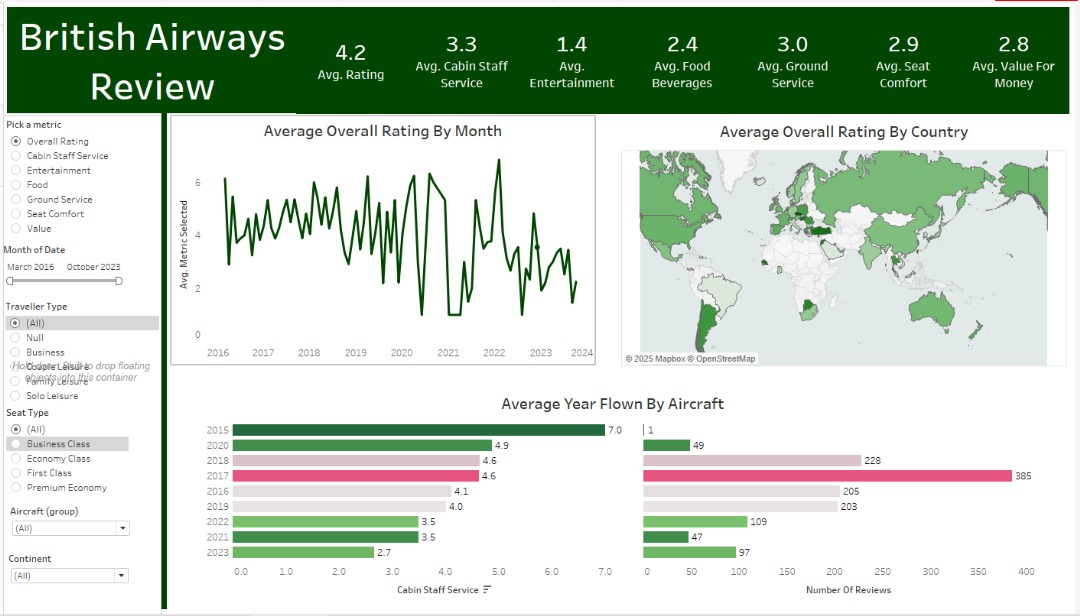

This screenshot's page, from the dashboard's own definition file:
{"tool":"tableau","page":{"name":"Dashboard 1","canvas":[1400,800],"ordinal":0},"visuals":[{"type":"text","box":[4,6,380,139]},{"type":"worksheet","title":"Summary","mark":"Automatic","box":[382,6,1011,140]},{"type":"blank","box":[206,145,7,649]},{"type":"worksheet","title":"Month","mark":"Automatic","rows":["Calculation_100768092632428544"],"cols":["date"],"box":[219,149,553,324]},{"type":"worksheet","title":"Map","mark":"Automatic","box":[807,150,583,326]},{"type":"parameter","param":"[Parameters].[Parameter 1]","box":[3,151,160,179]},{"type":"filter","title":"Map","param":"[federated.0n3szv21hfqixn1cjbh5w1tmzy2s].[none:traveller_type:nk]","box":[2,389,201,158]},{"type":"worksheet","title":"Aircraft","mark":"Bar","rows":["date_flown"],"cols":["Calculation_100768092632428544","ba_reviews.csv_9A71B011735B460E8CB0FA723E4BA34B"],"box":[219,506,1154,292]},{"type":"filter","title":"Map","param":"[federated.0n3szv21hfqixn1cjbh5w1tmzy2s].[none:seat_type:nk]","box":[3,528,160,136]},{"type":"filter","title":"Map","param":"[federated.0n3szv21hfqixn1cjbh5w1tmzy2s].[Aircraft (group)]","box":[8,657,160,51]},{"type":"filter","title":"Map","param":"[federated.0n3szv21hfqixn1cjbh5w1tmzy2s].[none:Continent:nk]","box":[6,719,160,50]}]}

Visuals, with their boxes in screenshot pixels (x1, y1, x2, y2), scaled from the page's 1400x800 canvas onto the 1080x616 screenshot:
text: {"left": 3, "top": 5, "right": 296, "bottom": 112}
"Summary" worksheet: {"left": 295, "top": 5, "right": 1075, "bottom": 112}
blank: {"left": 159, "top": 112, "right": 164, "bottom": 611}
"Month" worksheet: {"left": 169, "top": 115, "right": 596, "bottom": 364}
"Map" worksheet: {"left": 623, "top": 116, "right": 1072, "bottom": 367}
parameter: {"left": 2, "top": 116, "right": 126, "bottom": 254}
"Map" filter: {"left": 2, "top": 300, "right": 157, "bottom": 421}
"Aircraft" worksheet (Bar marks): {"left": 169, "top": 390, "right": 1059, "bottom": 614}
"Map" filter: {"left": 2, "top": 407, "right": 126, "bottom": 511}
"Map" filter: {"left": 6, "top": 506, "right": 130, "bottom": 545}
"Map" filter: {"left": 5, "top": 554, "right": 128, "bottom": 592}
